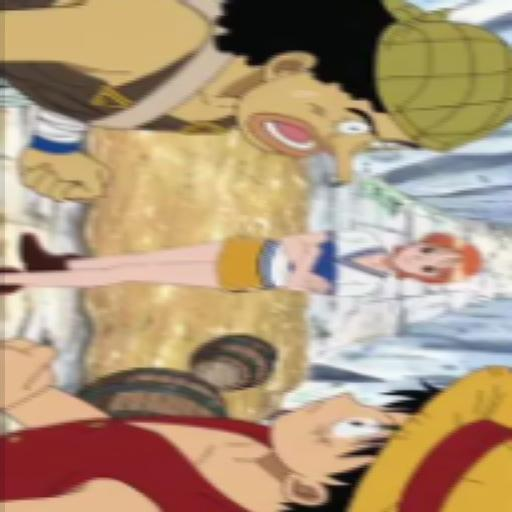Luffy: (0, 326, 512, 512)
Nami: (0, 209, 489, 317)
Usopp: (0, 0, 511, 222)
